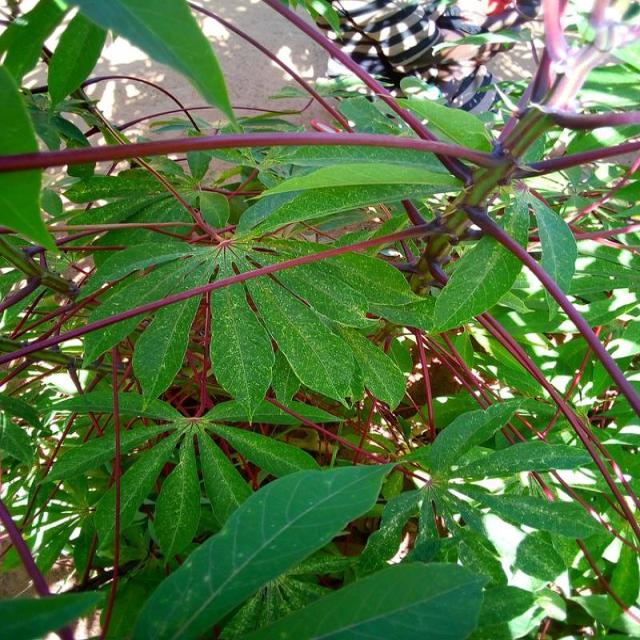cassava leaf: (2, 0, 639, 638), (131, 459, 397, 638), (245, 559, 491, 638)
